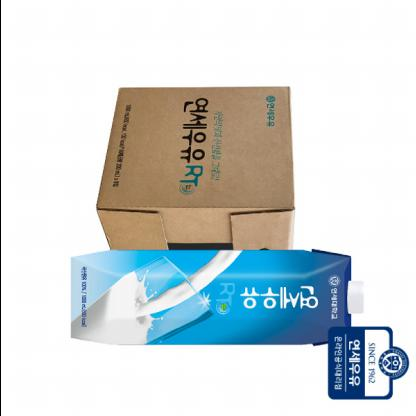tetra: (54, 234, 378, 368)
